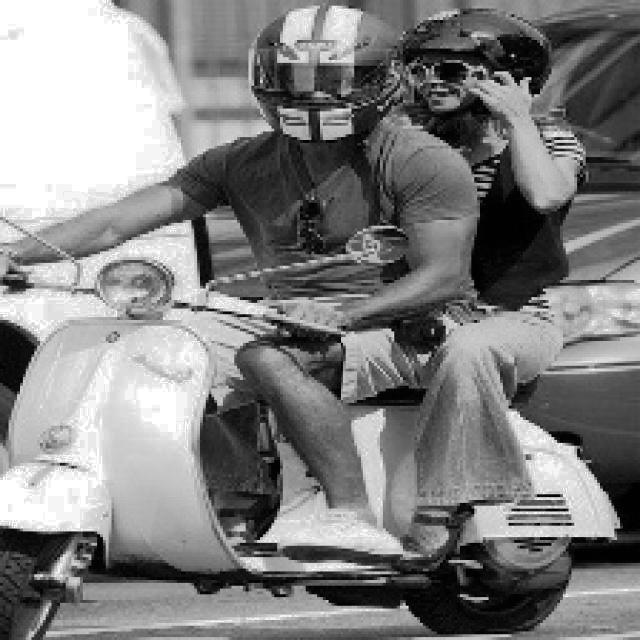Bike: (22, 262, 588, 632)
